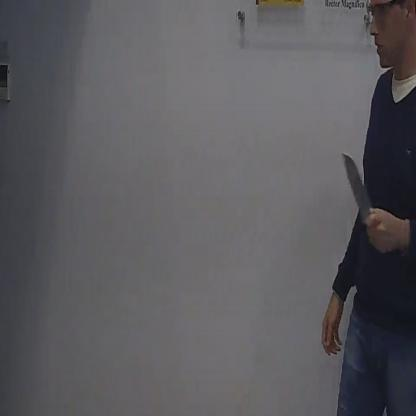knife: (340, 146, 384, 252)
